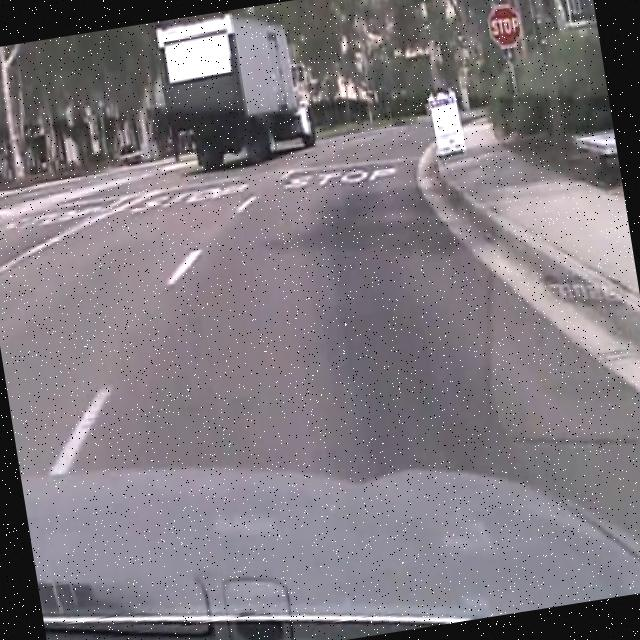Stop: (485, 0, 526, 52)
